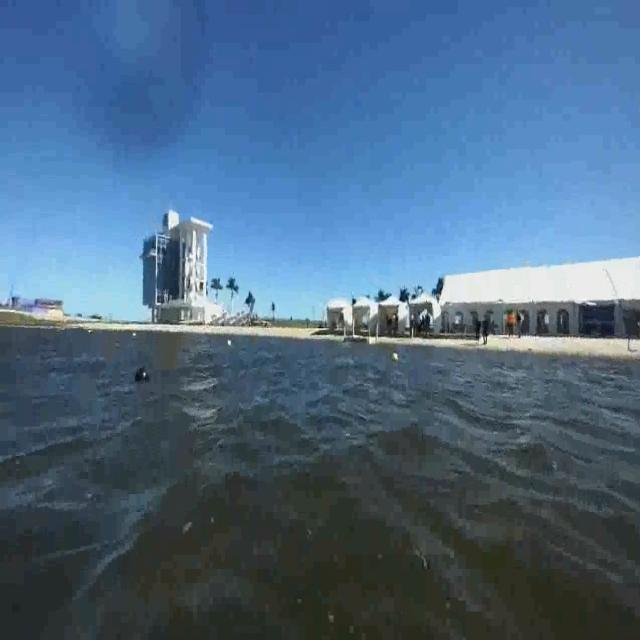black-buoy: (133, 366, 152, 385)
yellow-buoy: (391, 351, 399, 363)
